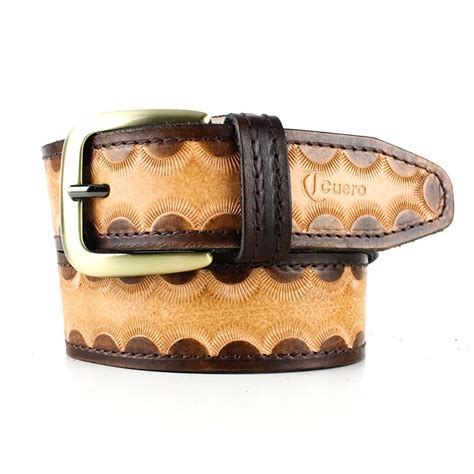cuero: (40, 114, 452, 374)
